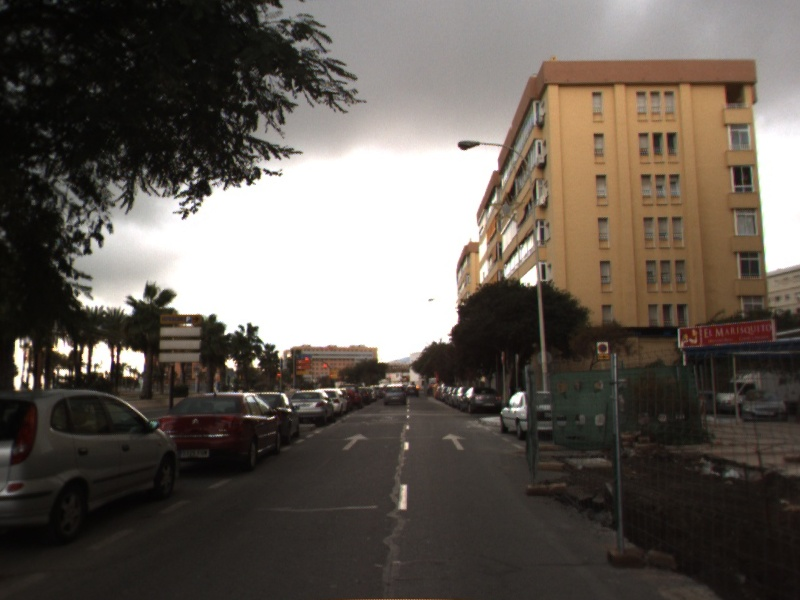STRAIGHT: (341, 432, 371, 451), (441, 432, 468, 451)
